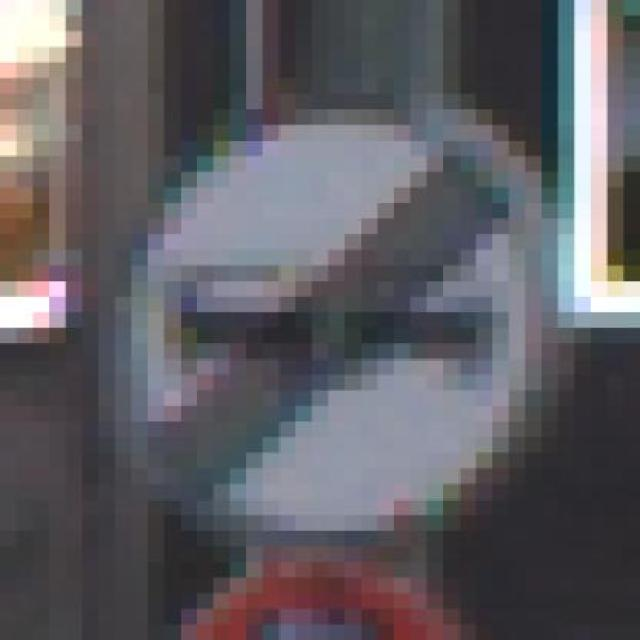No_Over_Taking: (33, 47, 624, 547)
